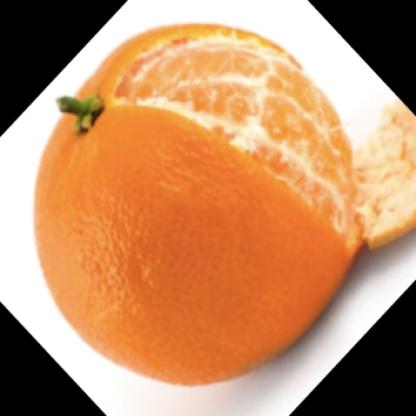fresh: (35, 25, 361, 387)
